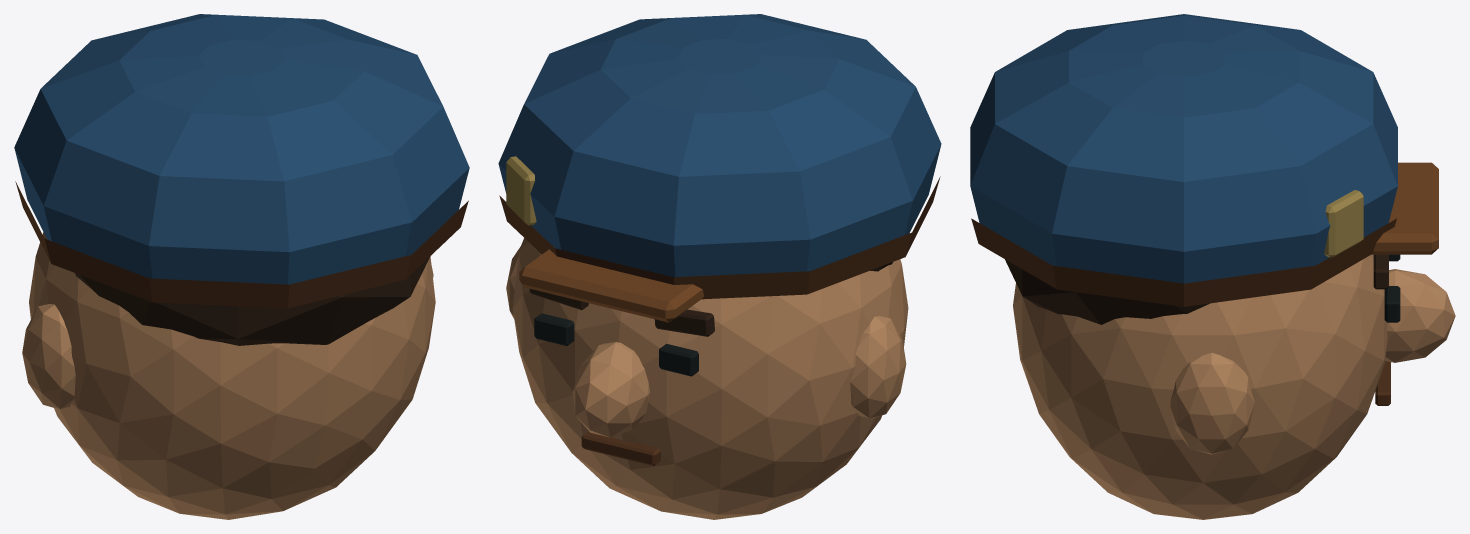
The model's file is Head.glb.
3 renders of one model, left to right at view 1: azimuth 30°, elevation 25°; view 2: azimuth 150°, elevation 25°; view 3: azimuth 270°, elevation 25°, orthographic. The views are drawn at different scales.
Parts seen in each view (by area): view 1: Sculpture; view 2: Sculpture; view 3: Sculpture.
Boxes of the visible parts, left/top/right/bottom form: Sculpture: left=14, top=14, right=469, bottom=519; Sculpture: left=498, top=14, right=941, bottom=519; Sculpture: left=970, top=14, right=1455, bottom=519.
Size of the model in its own units: 0.52 by 0.568 by 0.5613.
